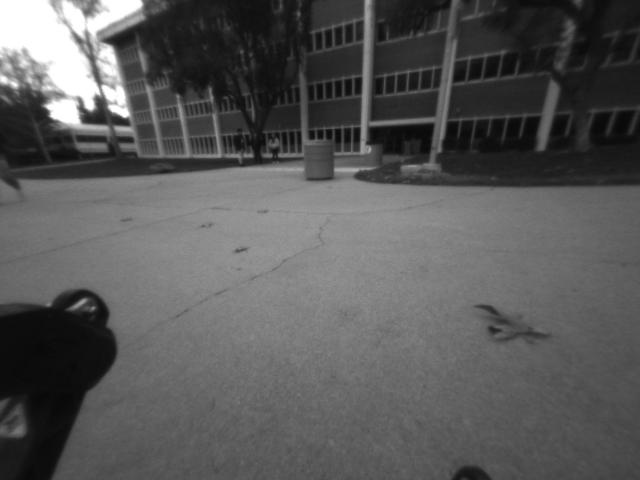trashcan: (296, 136, 340, 185), (361, 135, 385, 173)
